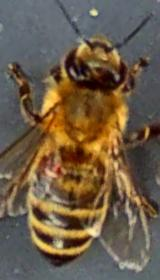varroa_mite: (35, 150, 65, 180)
